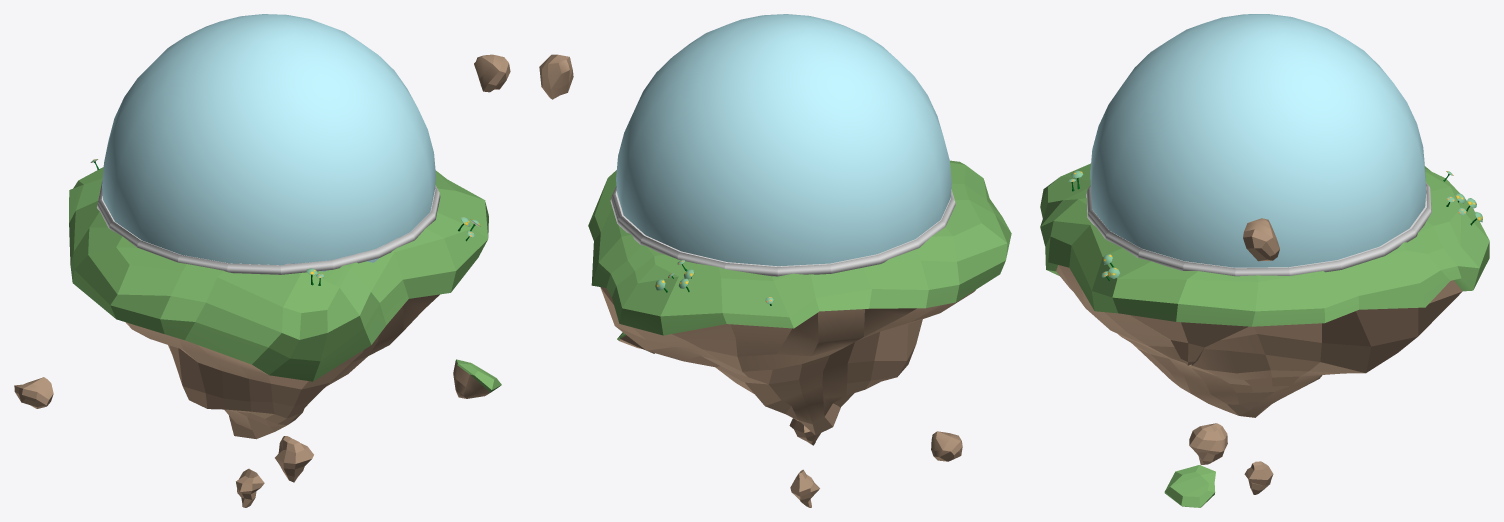
File: Island.glb
3 views of the same model, side by side, from view 1: azimuth 30°, elevation 25°; view 2: azimuth 150°, elevation 25°; view 3: azimuth 270°, elevation 25° (orthographic).
Parts seen in each view (by area): view 1: Dome, Island.001, Floor; view 2: Dome, Island.001, Floor; view 3: Dome, Island.001, Floor, Mushrooms.
Boxes of the visible parts, bbox=[...] form: Dome: bbox=[102, 14, 435, 271]; Island.001: bbox=[14, 54, 510, 507]; Floor: bbox=[97, 181, 440, 274]; Dome: bbox=[616, 14, 951, 266]; Island.001: bbox=[539, 54, 1011, 507]; Floor: bbox=[610, 186, 955, 276]; Dome: bbox=[1090, 14, 1426, 267]; Island.001: bbox=[1040, 163, 1489, 507]; Floor: bbox=[1086, 182, 1431, 276]; Mushrooms: bbox=[1068, 170, 1482, 280].
Size of the model in its own units: 98.34 by 97.76 by 83.48.
Materials: 2 (1 with a texture image).
